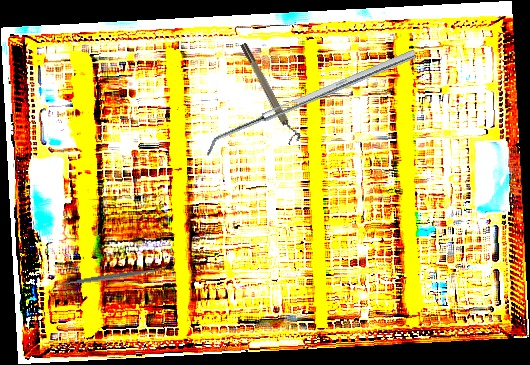Fixation Ring: (238, 39, 303, 146)
Spatula Surgical: (199, 49, 421, 157), (48, 262, 170, 293)
